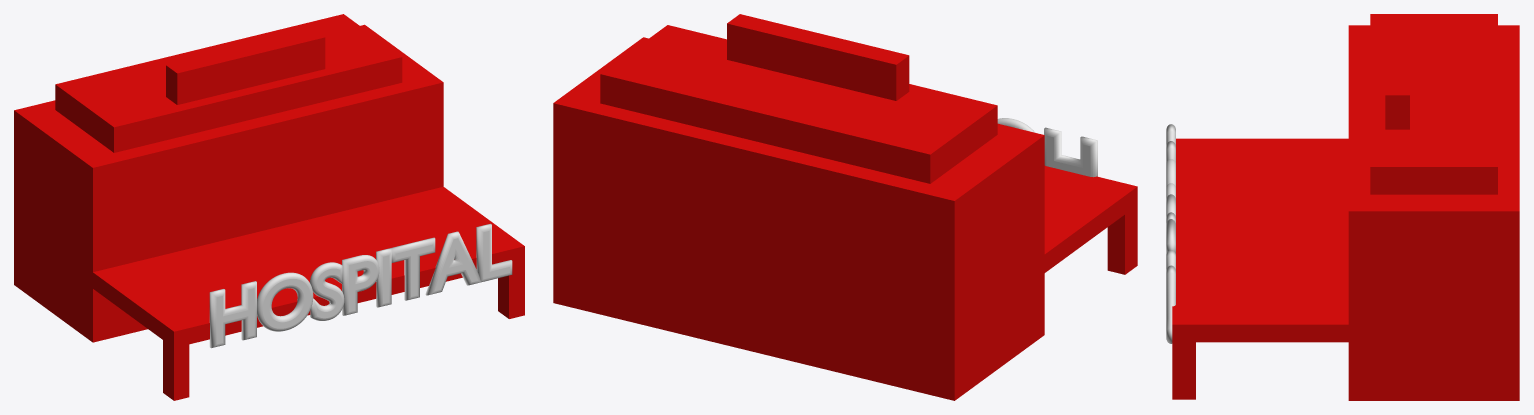
File: hospital.fbx
3 views of the same model, side by side, from view 1: azimuth 30°, elevation 25°; view 2: azimuth 150°, elevation 25°; view 3: azimuth 270°, elevation 25° (orthographic). The views are drawn at different scales.
Visible parts, largest first — view 1: Cube, Text; view 2: Cube, Text; view 3: Cube, Text.
Boxes of the visible parts, box(x1,y1,x2,y2) form: Cube: box(14, 14, 524, 400); Text: box(209, 223, 512, 348); Cube: box(553, 14, 1137, 400); Text: box(997, 118, 1097, 177); Cube: box(1172, 14, 1519, 400); Text: box(1166, 124, 1175, 343).
Bounding box in the file's own units: 361 × 228 × 290.
